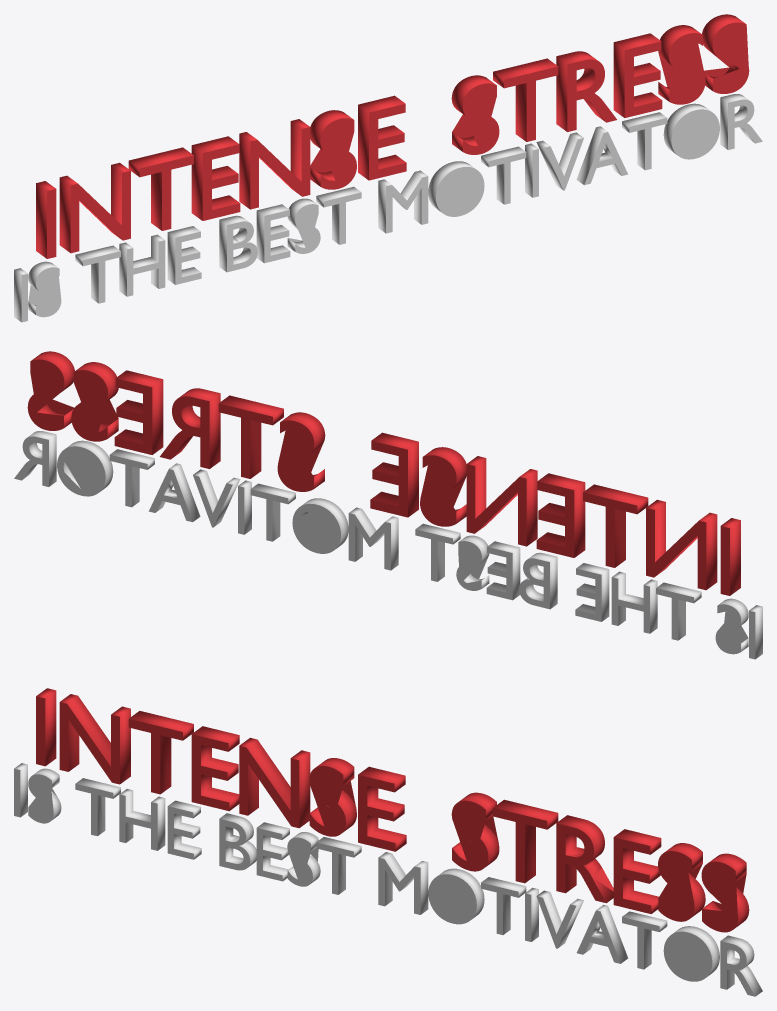
The model's file is IntenceStressBestMotivator.fbx.
3 renders of one model, top to bottom at view 1: azimuth 30°, elevation 25°; view 2: azimuth 150°, elevation 25°; view 3: azimuth 330°, elevation 25°, orthographic.
Visible parts, largest first — view 1: intencestress, best moticatopr; view 2: intencestress, best moticatopr; view 3: intencestress, best moticatopr.
Boxes of the visible parts, x1,y1,x2,y2 form: intencestress: [36, 14, 749, 258]; best moticatopr: [14, 94, 762, 322]; intencestress: [27, 351, 740, 595]; best moticatopr: [14, 431, 762, 659]; intencestress: [36, 688, 749, 932]; best moticatopr: [14, 763, 762, 996].
Size of the model in its own units: 574 by 94.97 by 14.75.
